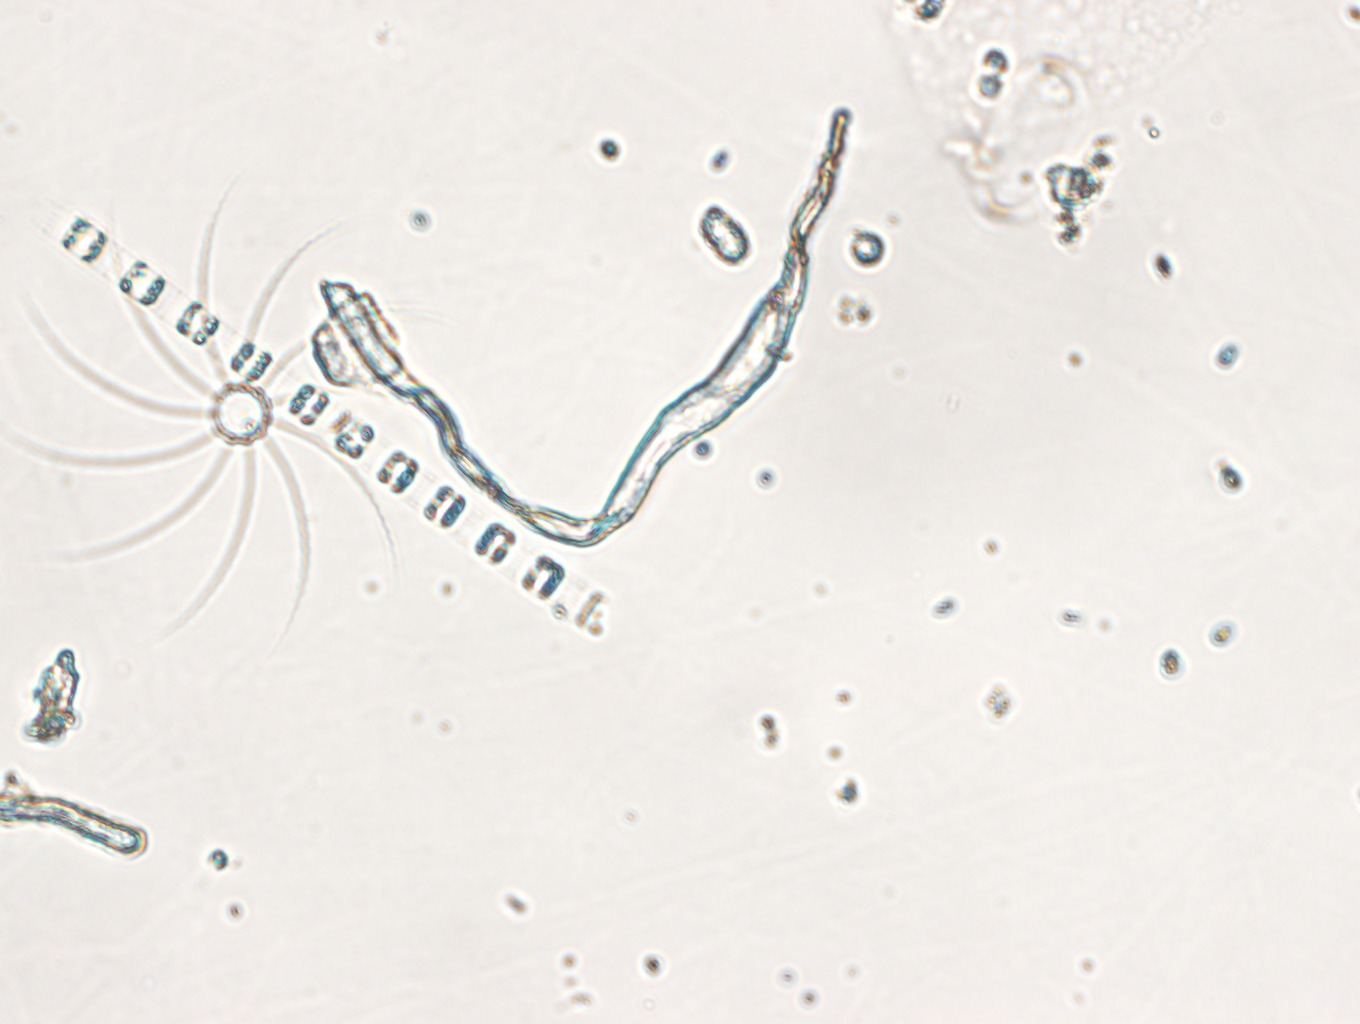bacteriastrum: (8, 228, 416, 640)
skeletonema: (32, 197, 622, 642)
